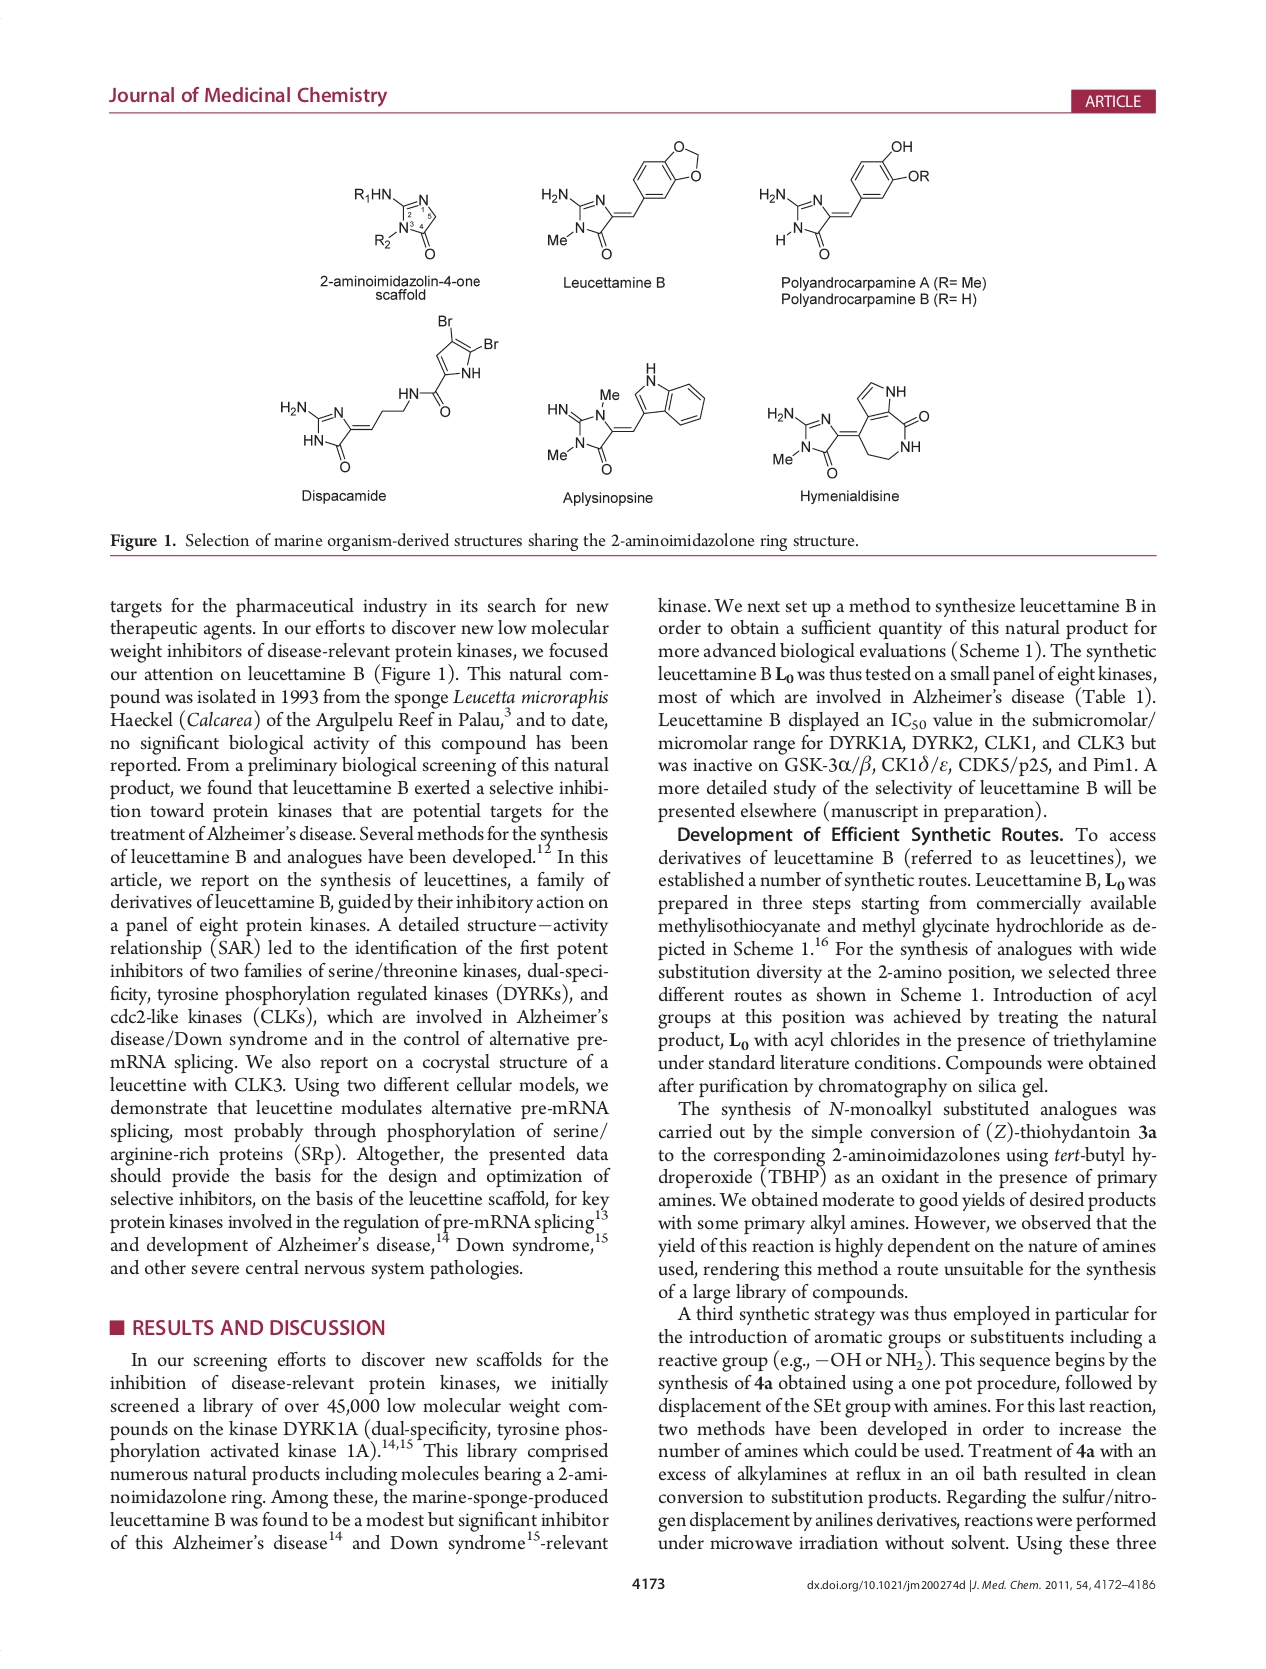exist_molecular: (277, 313, 501, 475), (755, 138, 930, 262), (537, 140, 701, 262), (544, 360, 707, 477), (765, 378, 931, 481), (348, 181, 440, 265)
